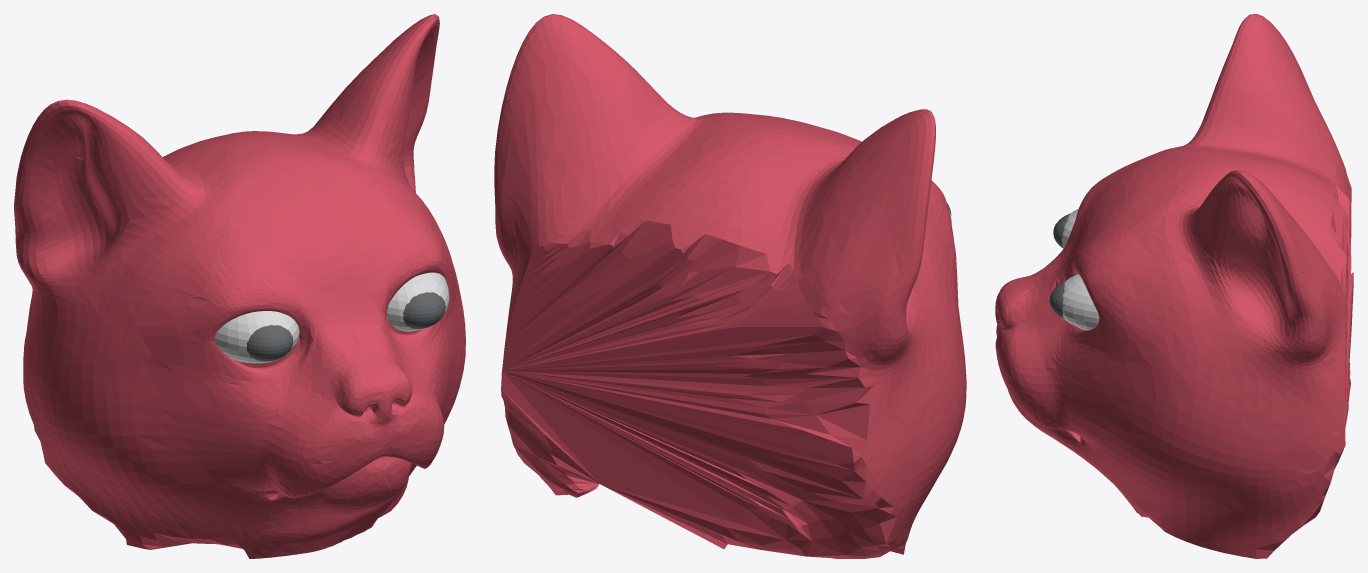
Rendered from doggy.gltf.
3 renders of one model, left to right at view 1: azimuth 30°, elevation 25°; view 2: azimuth 150°, elevation 25°; view 3: azimuth 270°, elevation 25°, orthographic. The views are drawn at different scales.
Visible parts, largest first — view 1: Mesh_Mesh_head_geo.001_lambert2SG.001; view 2: Mesh_Mesh_head_geo.001_lambert2SG.001; view 3: Mesh_Mesh_head_geo.001_lambert2SG.001.
Part boxes in pixels (x1,y1,x2,y2): Mesh_Mesh_head_geo.001_lambert2SG.001: (14, 14, 465, 558); Mesh_Mesh_head_geo.001_lambert2SG.001: (494, 14, 966, 558); Mesh_Mesh_head_geo.001_lambert2SG.001: (995, 14, 1353, 558).
Size of the model in its own units: 0.7944 by 0.8284 by 0.6772.
